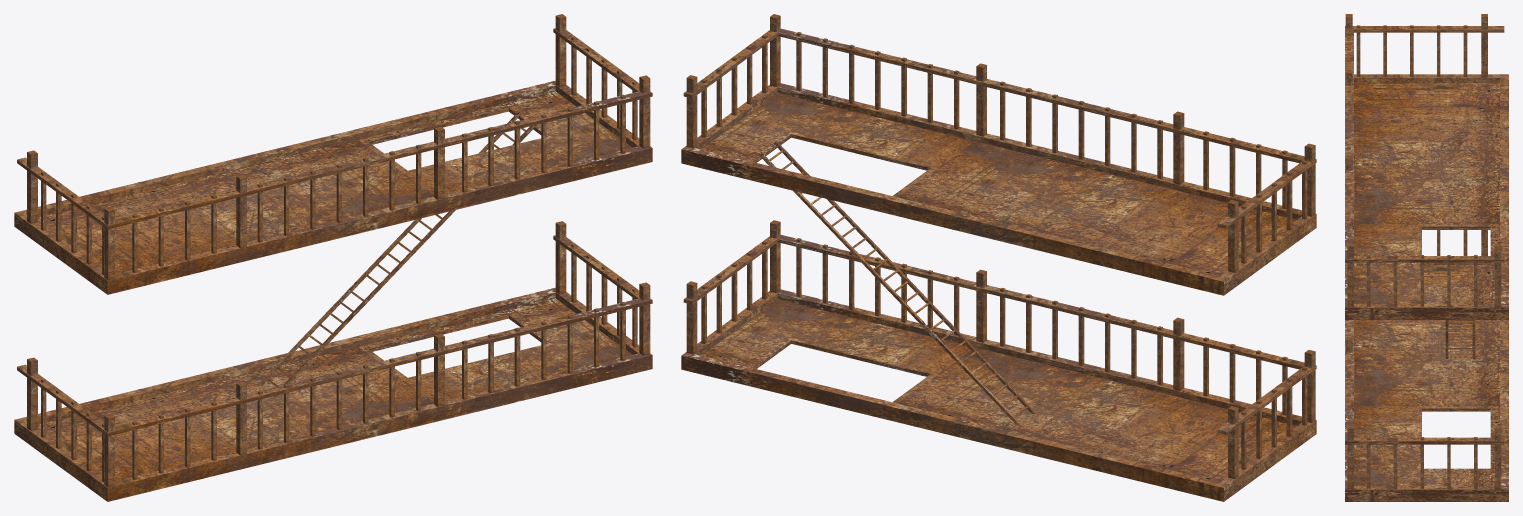
The model's file is fire_escape_02.fbx.
3 views of the same model, side by side, from view 1: azimuth 30°, elevation 25°; view 2: azimuth 150°, elevation 25°; view 3: azimuth 270°, elevation 25° (orthographic). The views are drawn at different scales.
Parts seen in each view (by area): view 1: fire_escape_02; view 2: fire_escape_02; view 3: fire_escape_02.
Part boxes in pixels (x1,y1,x2,y2): fire_escape_02: (14, 14, 652, 501); fire_escape_02: (681, 14, 1316, 501); fire_escape_02: (1345, 14, 1508, 501).
Size of the model in its own units: 8.26 by 4.2 by 2.45.
